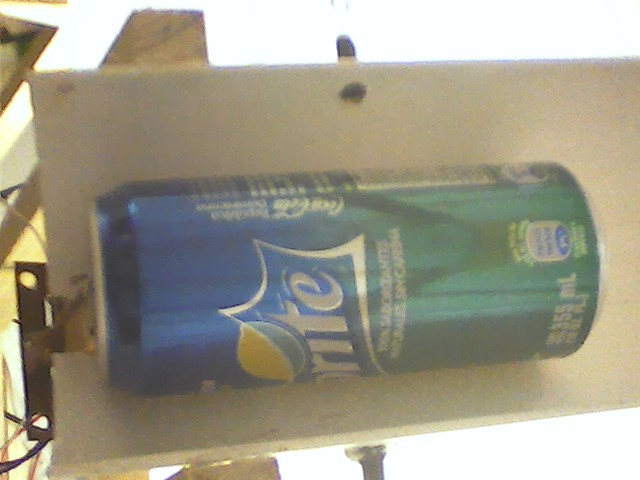lata: (80, 159, 614, 401)
